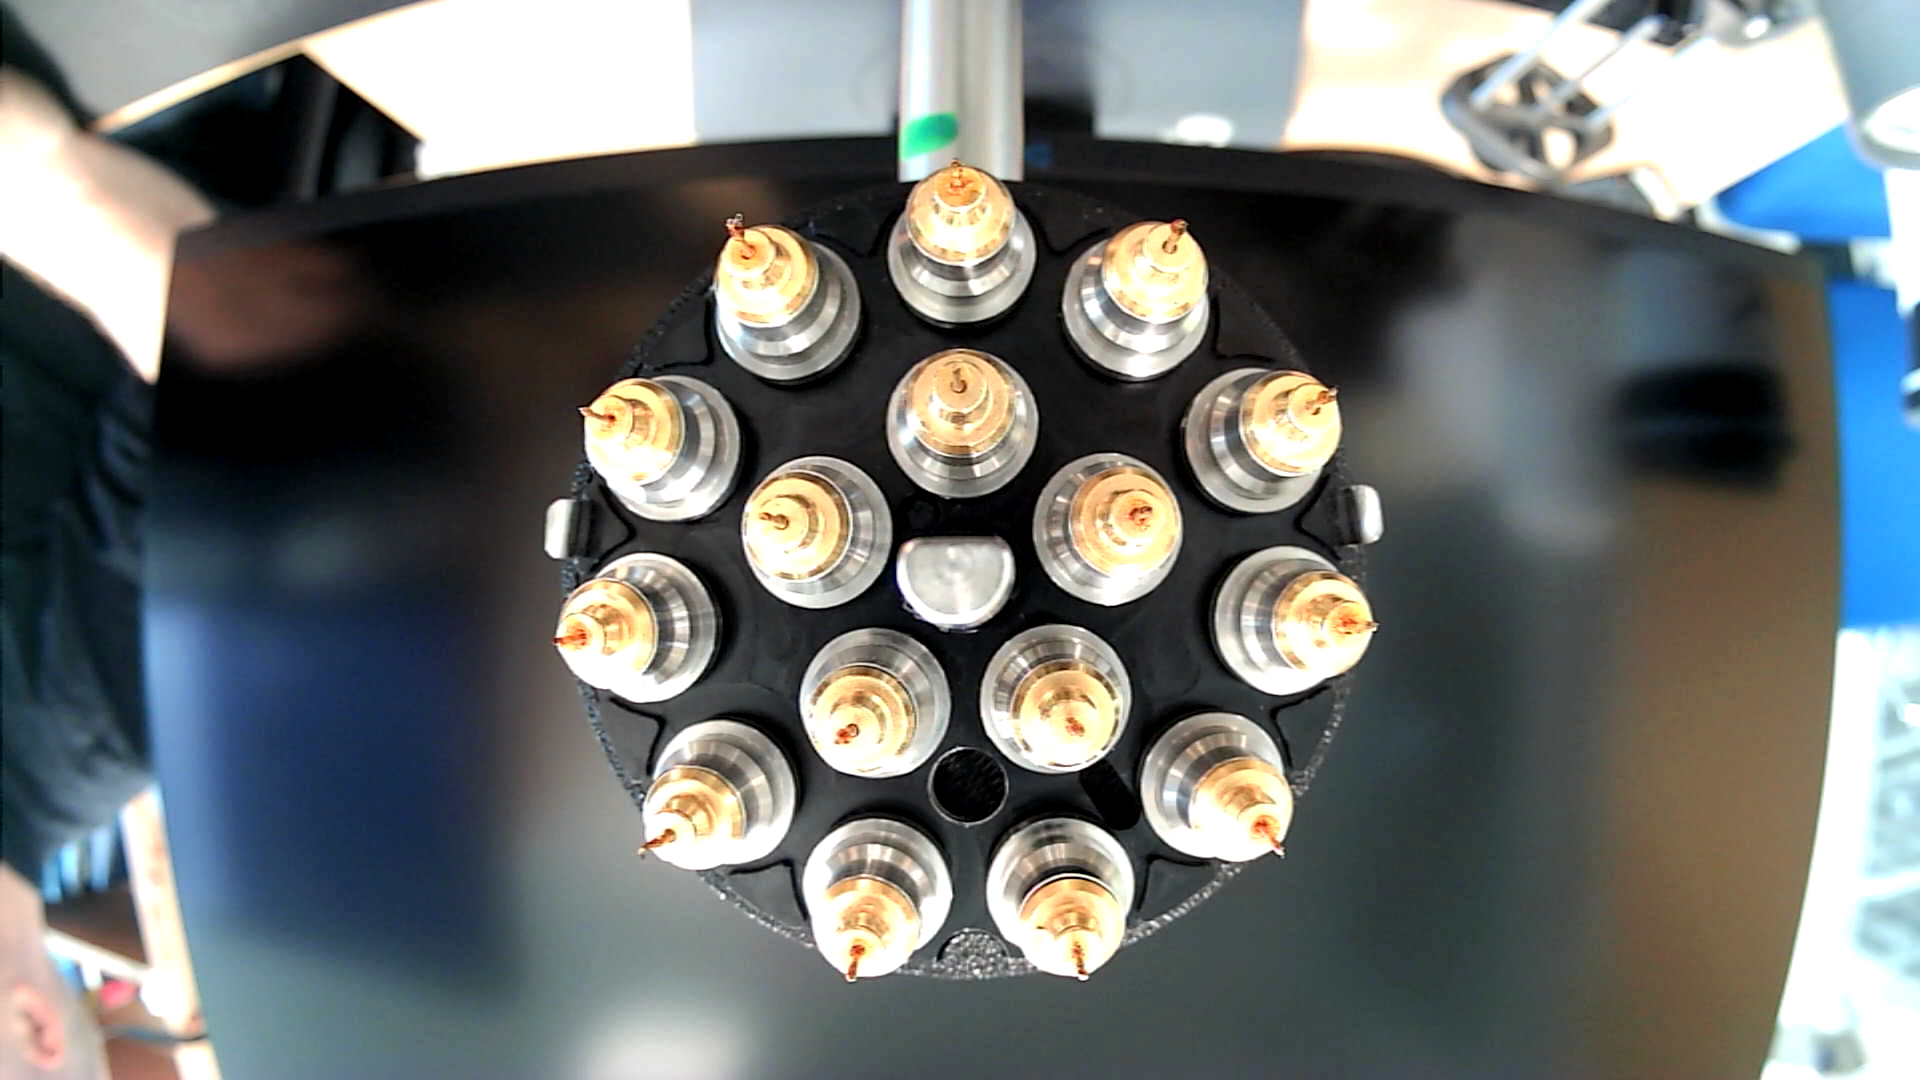hole: (926, 744, 1010, 828)
pin: (550, 549, 721, 707), (1060, 212, 1213, 386), (884, 160, 1040, 328), (1208, 545, 1379, 698), (985, 814, 1135, 986), (800, 818, 955, 984), (1180, 363, 1344, 518), (713, 212, 862, 381), (578, 372, 740, 525), (1030, 450, 1185, 607), (796, 626, 953, 782), (636, 720, 796, 872), (1139, 709, 1296, 864), (978, 622, 1134, 777), (738, 455, 891, 612), (884, 347, 1040, 498)
rod: (895, 531, 1018, 632)
